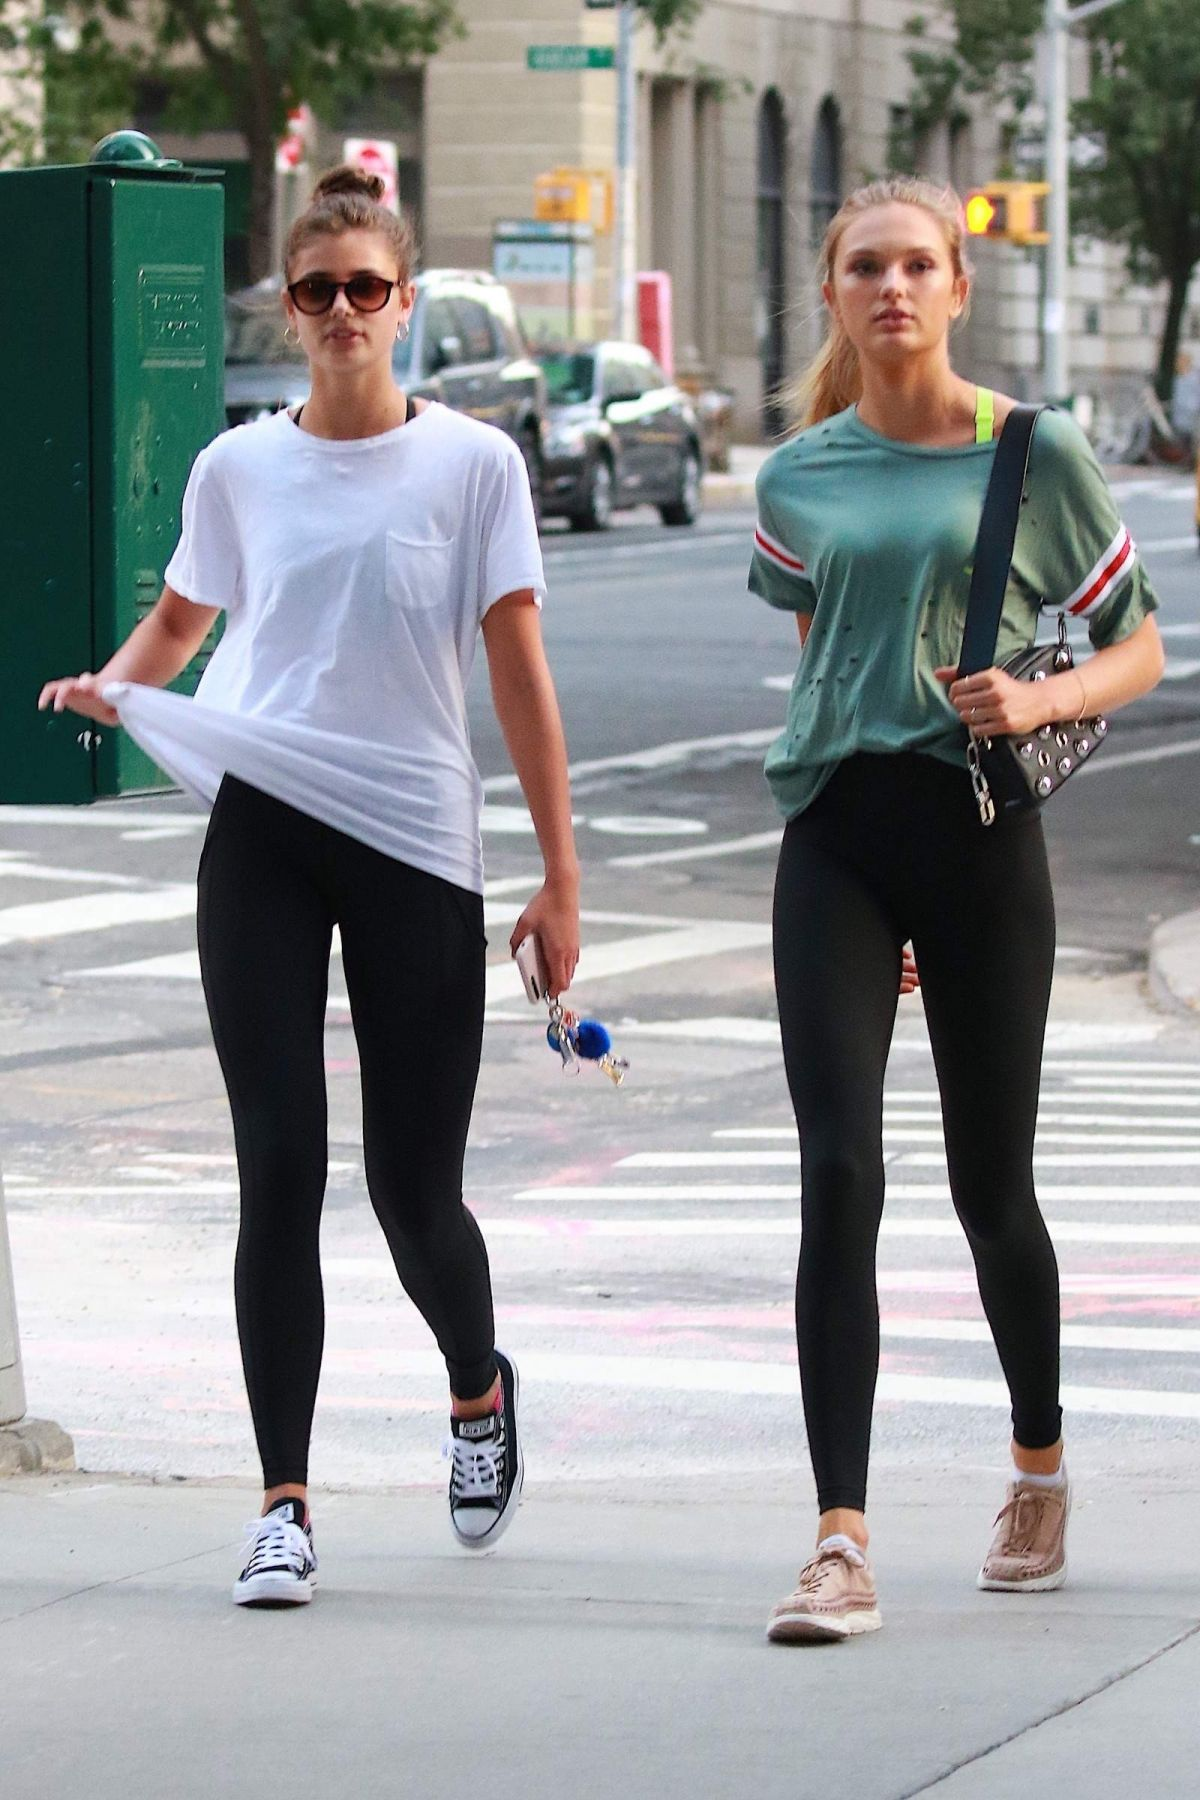Person: (37, 165, 585, 1611), (745, 173, 1168, 1646)
